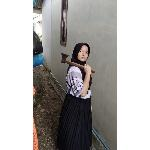Kapak: (59, 50, 97, 74)
